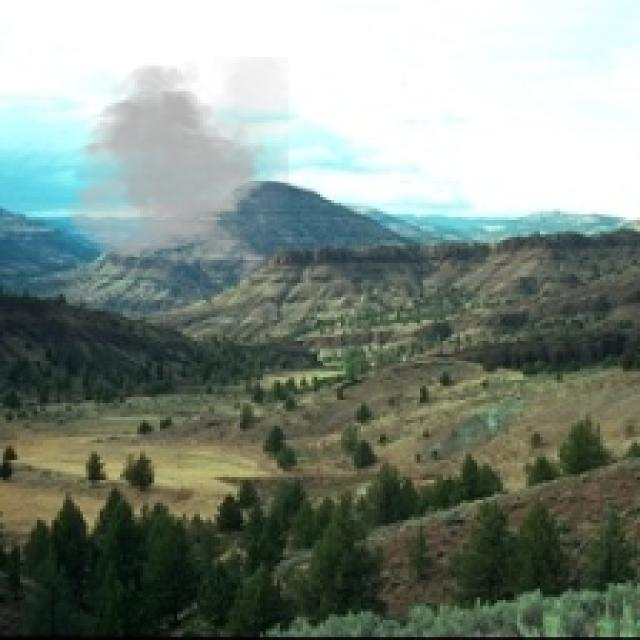Smoke: (62, 57, 288, 283)
